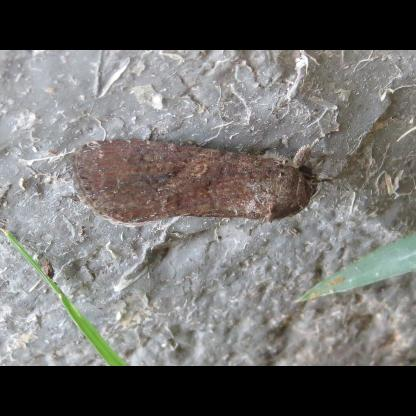Fall Armyworm Moth: (67, 126, 344, 230)
